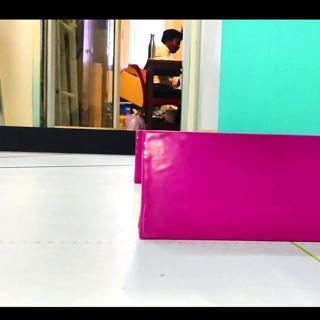xparking: (144, 136, 314, 242)
